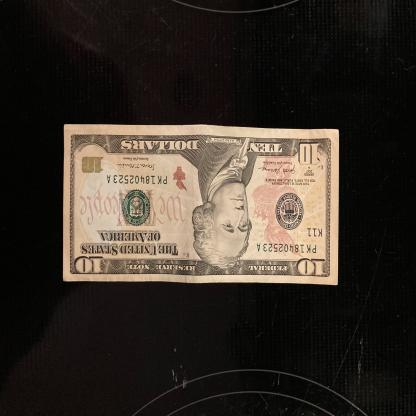ten-front: (63, 124, 340, 284)
